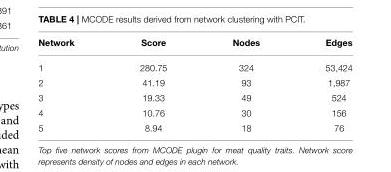table: (37, 37, 351, 132)
table column: (198, 37, 291, 132), (106, 37, 198, 132), (37, 37, 106, 132), (291, 37, 351, 132)
table column header: (37, 37, 351, 55)
table row: (37, 55, 351, 75), (37, 37, 351, 55), (37, 75, 351, 90), (37, 90, 351, 105), (37, 105, 351, 120), (37, 120, 351, 132)
